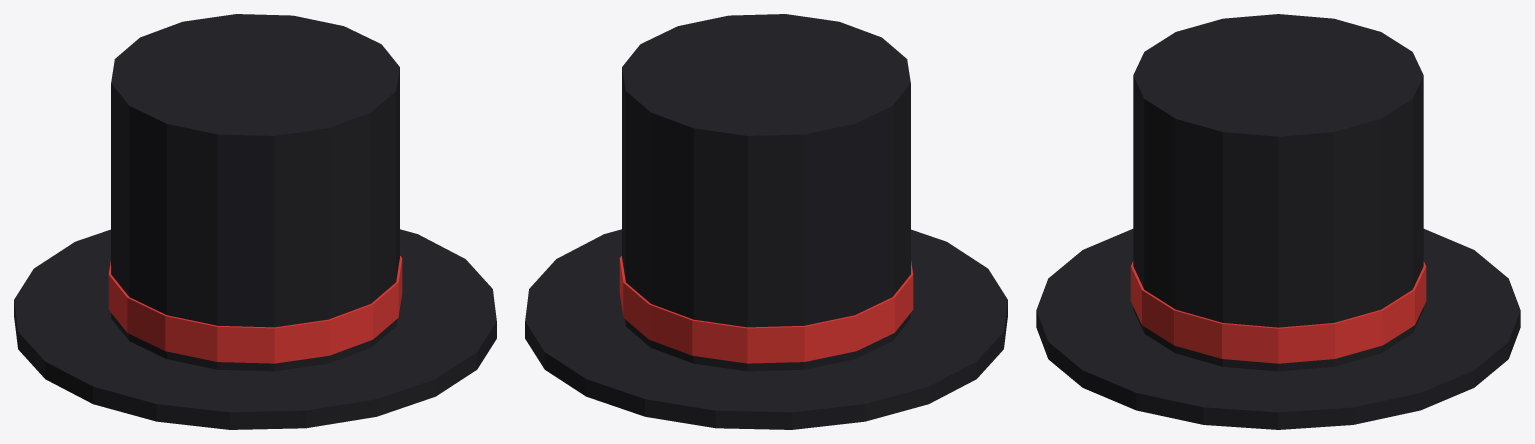
Rendered from hat_top.glb.
3 views of the same model, side by side, from view 1: azimuth 30°, elevation 25°; view 2: azimuth 150°, elevation 25°; view 3: azimuth 270°, elevation 25° (orthographic).
Parts seen in each view (by area): view 1: hat_top; view 2: hat_top; view 3: hat_top.
Part boxes in pixels (box(x1,y1,x2,y2)): hat_top: box(14, 14, 496, 429); hat_top: box(525, 14, 1007, 429); hat_top: box(1036, 14, 1520, 429).
Bounding box in the file's own units: 1 × 0.575 × 1.
